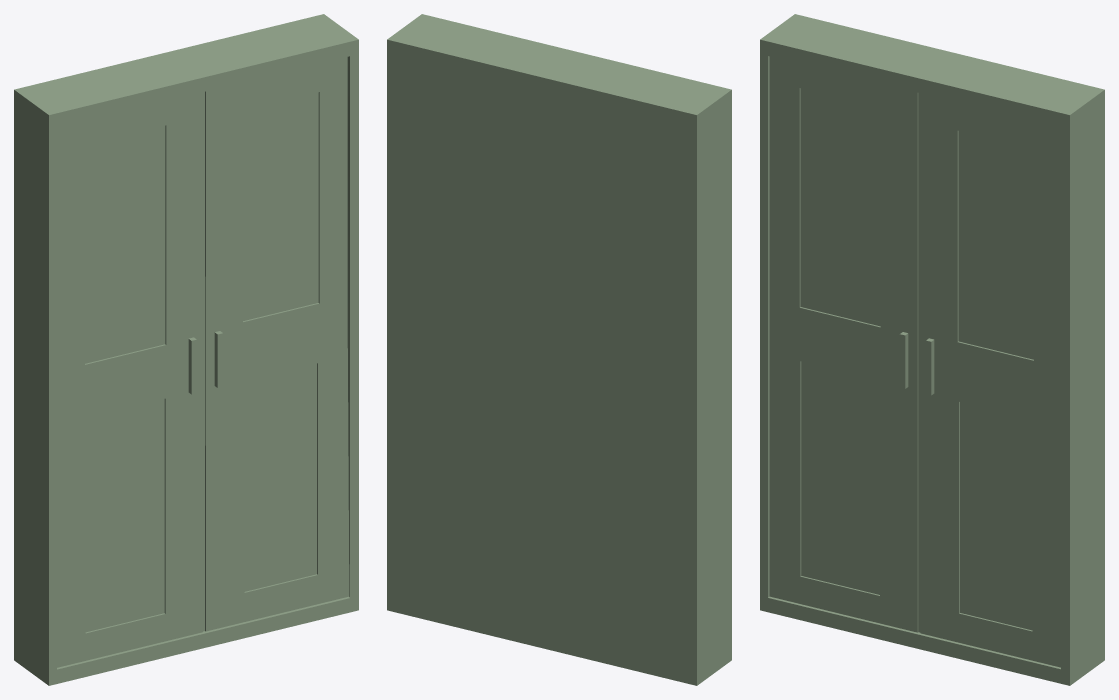
File: Estanteria.fbx
The picture shows the model from 3 angles, left to right: view 1: azimuth 30°, elevation 25°; view 2: azimuth 150°, elevation 25°; view 3: azimuth 330°, elevation 25°; orthographic projection.
Visible parts, largest first — view 1: pCube12; view 2: pCube12; view 3: pCube12.
Boxes of the visible parts, box(x1,y1,x2,y2) form: pCube12: box(14, 14, 358, 685); pCube12: box(387, 14, 731, 685); pCube12: box(760, 14, 1104, 685).
Size of the model in its own units: 5.11 by 9 by 1.04.
